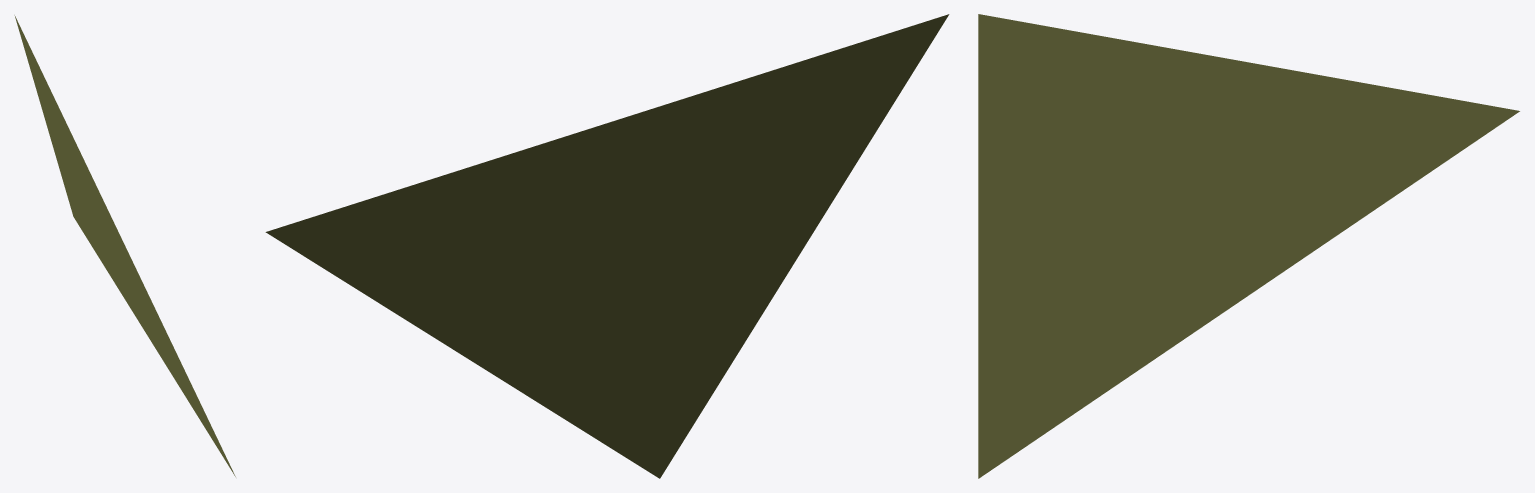
3 renders of one model, left to right at view 1: azimuth 30°, elevation 25°; view 2: azimuth 150°, elevation 25°; view 3: azimuth 270°, elevation 25°, orthographic. The views are drawn at different scales.
Size of the model in its own units: 0.00925 by 0.0163 by 0.0218.
Materials: 1 (1 with a texture image).
